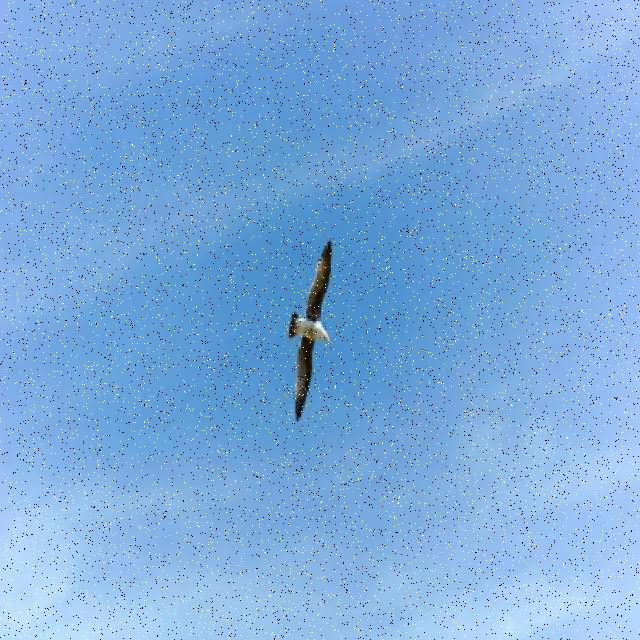bird: (288, 240, 334, 422)
